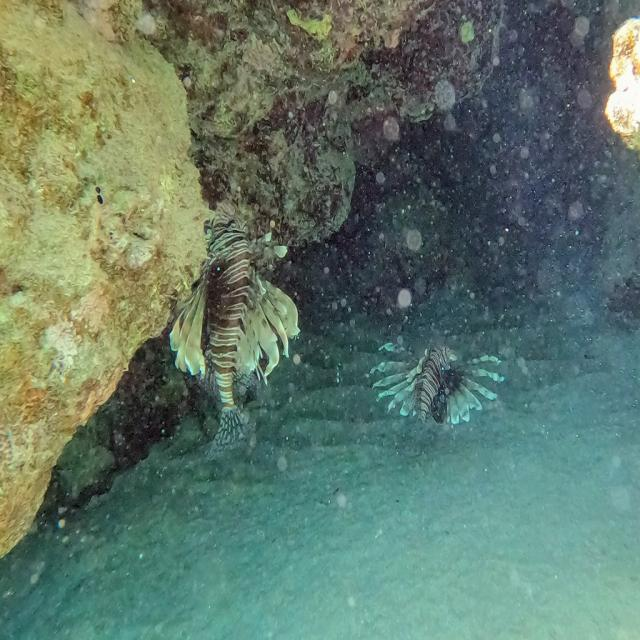Aslan Baligi: (167, 201, 301, 459), (372, 307, 505, 450)
